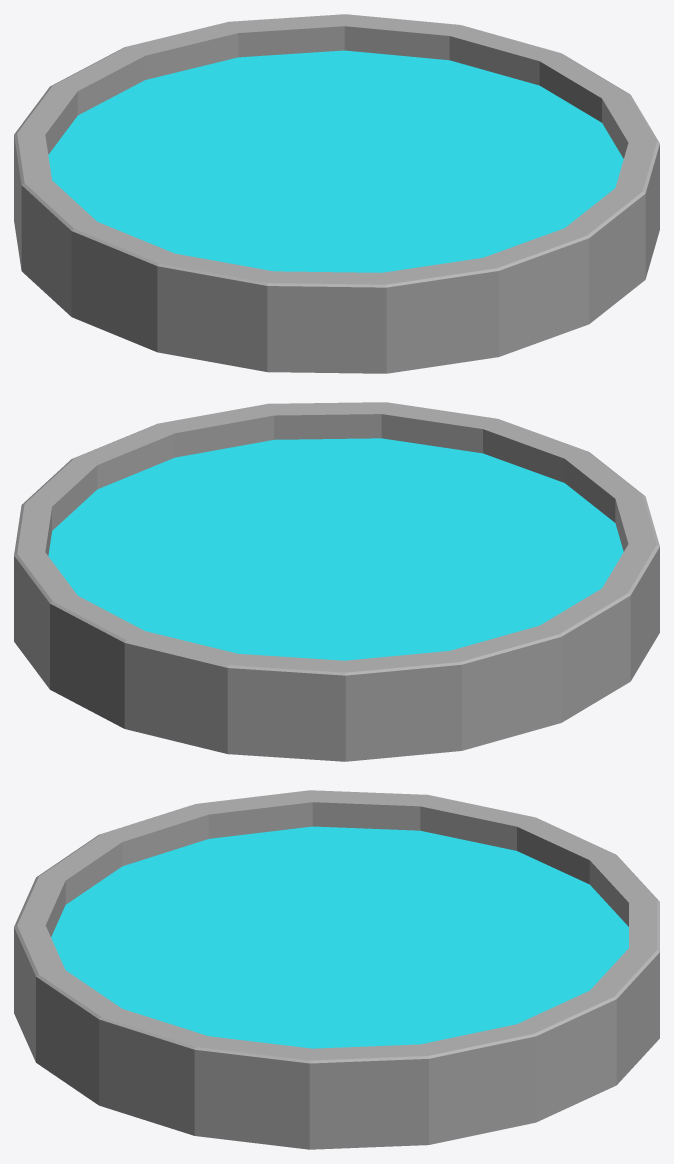
3 renders of one model, top to bottom at view 1: azimuth 30°, elevation 25°; view 2: azimuth 150°, elevation 25°; view 3: azimuth 270°, elevation 25°, orthographic.
Parts seen in each view (by area): view 1: вода, бассейн; view 2: вода, бассейн; view 3: вода, бассейн.
Part boxes in pixels (box(x1,y1,x2,y2)): вода: box(48, 50, 623, 272); бассейн: box(14, 14, 659, 373); вода: box(48, 438, 623, 660); бассейн: box(14, 402, 659, 761); вода: box(51, 826, 628, 1048); бассейн: box(14, 790, 659, 1149).
Bounding box in the file's own units: 1000 × 150 × 1000.
